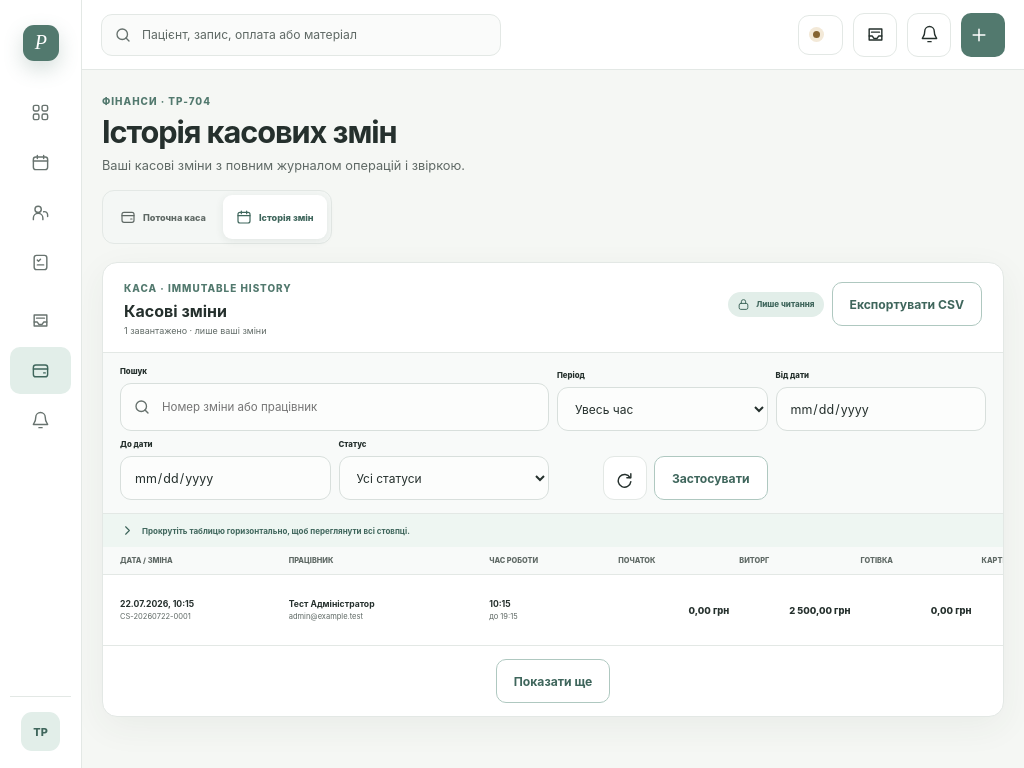
Test case: TP-704 cash-shift history › keeps reception history own-only in the UI and loads the next cursor
Check: the text "1 завантажено · лише ваші зміни" is shown, box x1=124 y1=325 x2=266 y2=336
Click the button "Показати ще" at (553, 681), box x1=496 y1=659 x2=610 y2=703
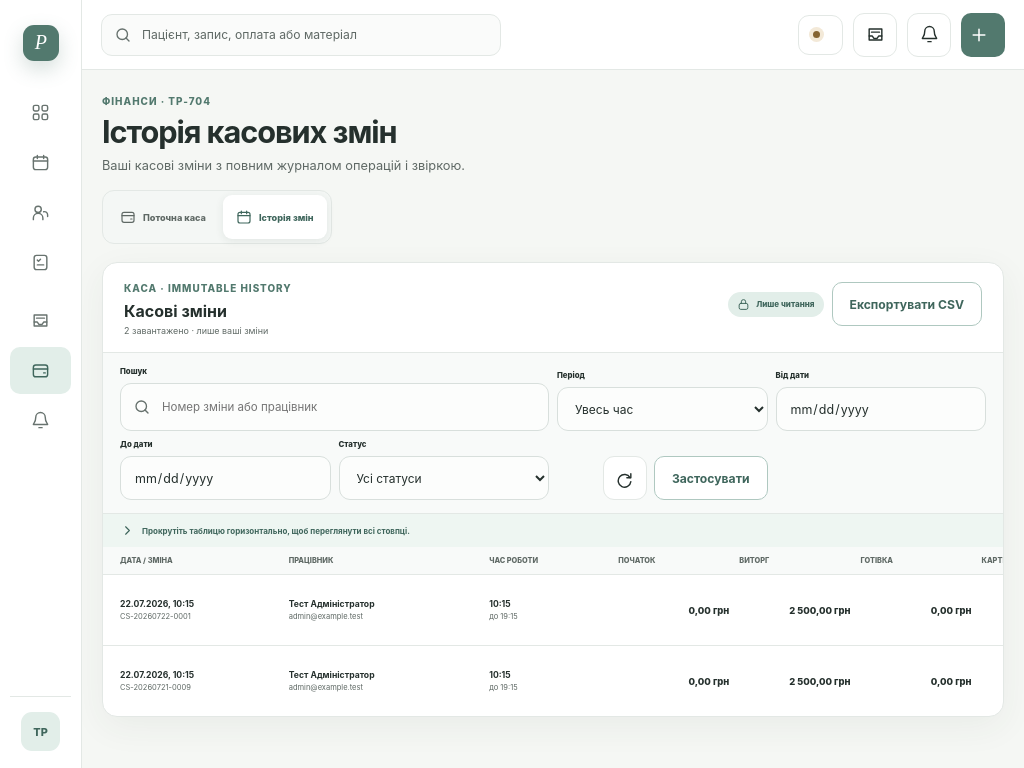
Check: the text "CS-20260721-0009" is shown, box x1=120 y1=683 x2=191 y2=692
